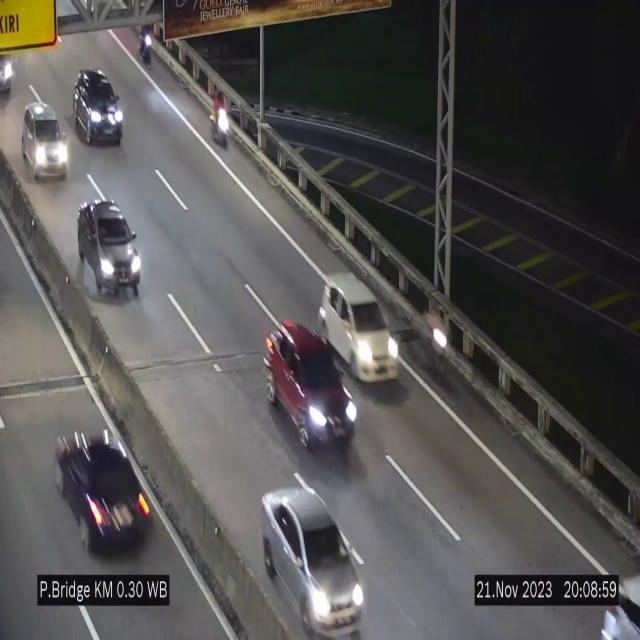Car: (261, 488, 364, 635), (264, 322, 358, 456), (319, 274, 403, 381), (77, 200, 142, 298), (20, 97, 72, 190), (74, 69, 122, 144)
Motorcycle: (414, 298, 448, 382), (206, 83, 228, 150), (137, 20, 149, 78)
